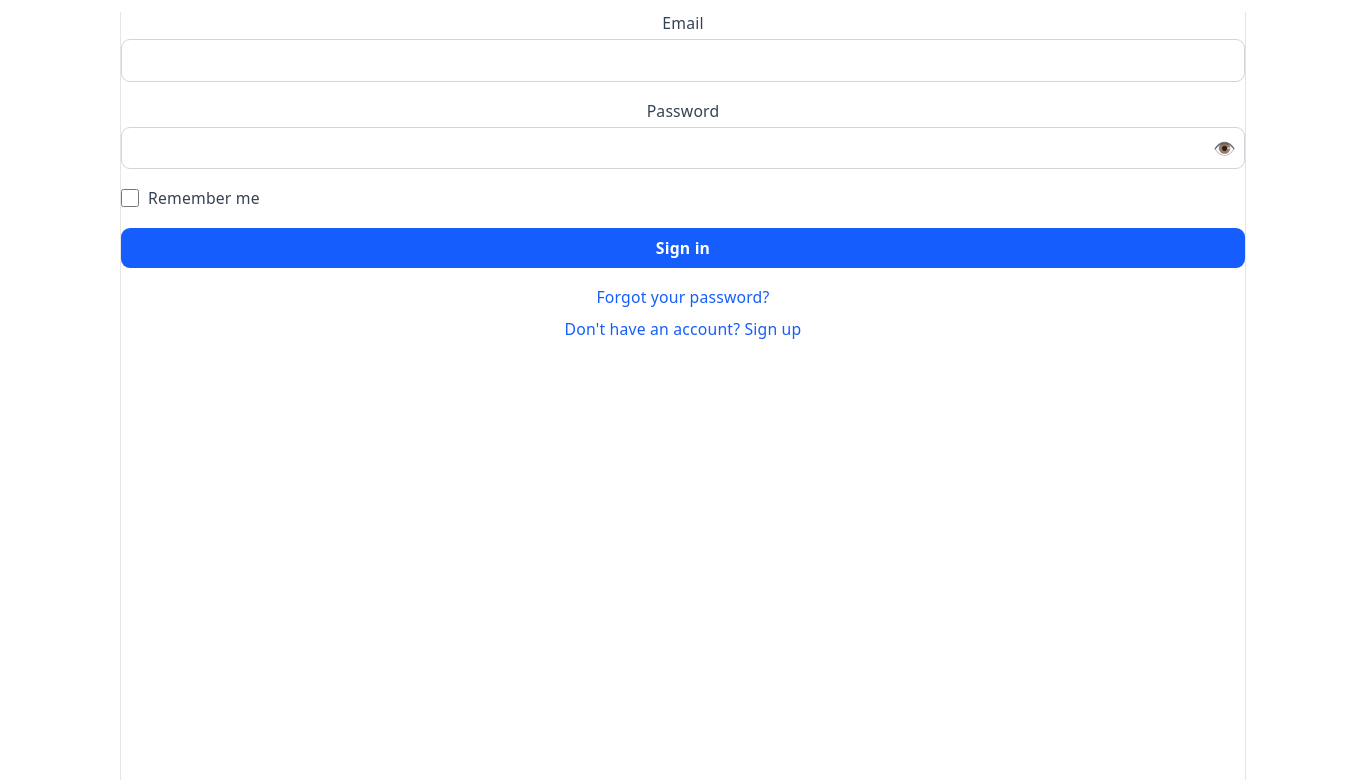
Test: LoginForm › shows email validation error for invalid email
The width and height of the screenshot is (1366, 780).
In the field labelled "Email": (683, 60) [121, 39, 1245, 82], type "invalid"
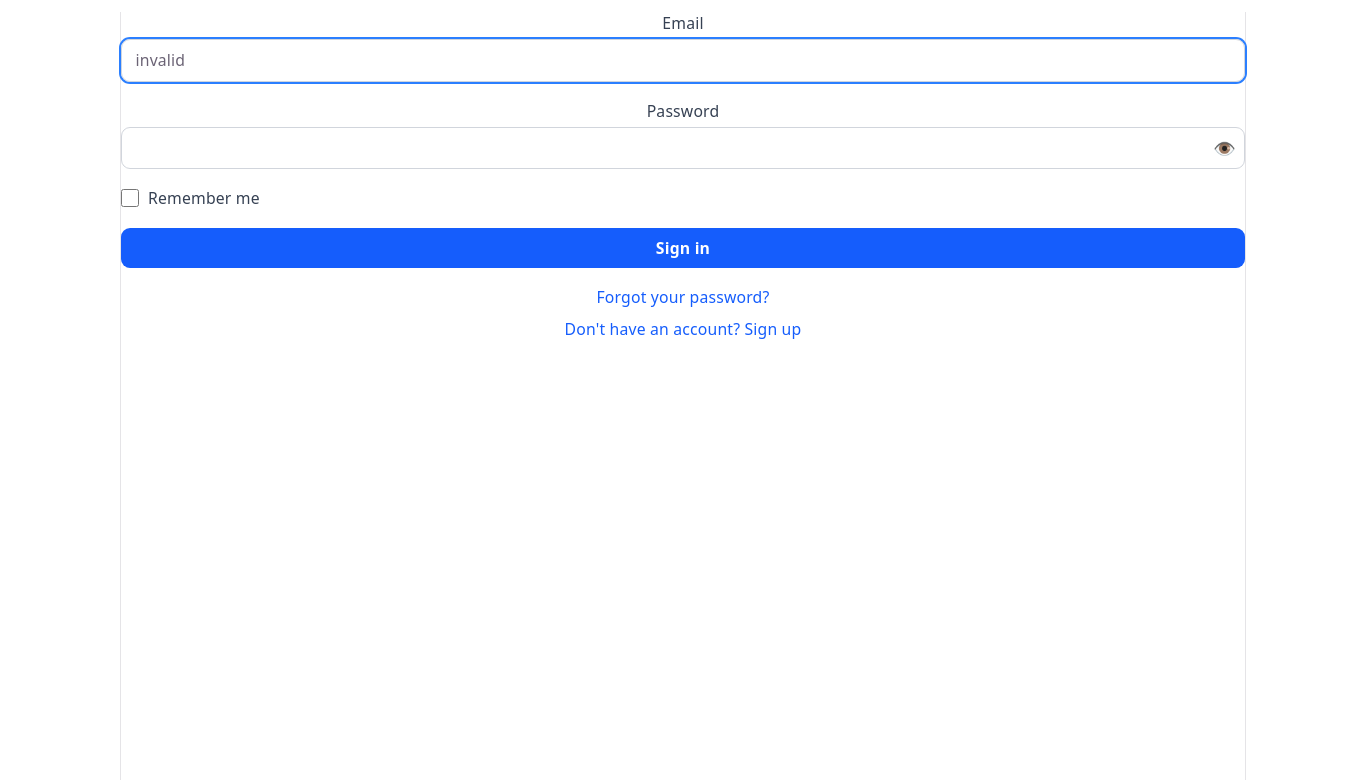
Click the button "Sign in": (683, 248) [121, 228, 1245, 268]
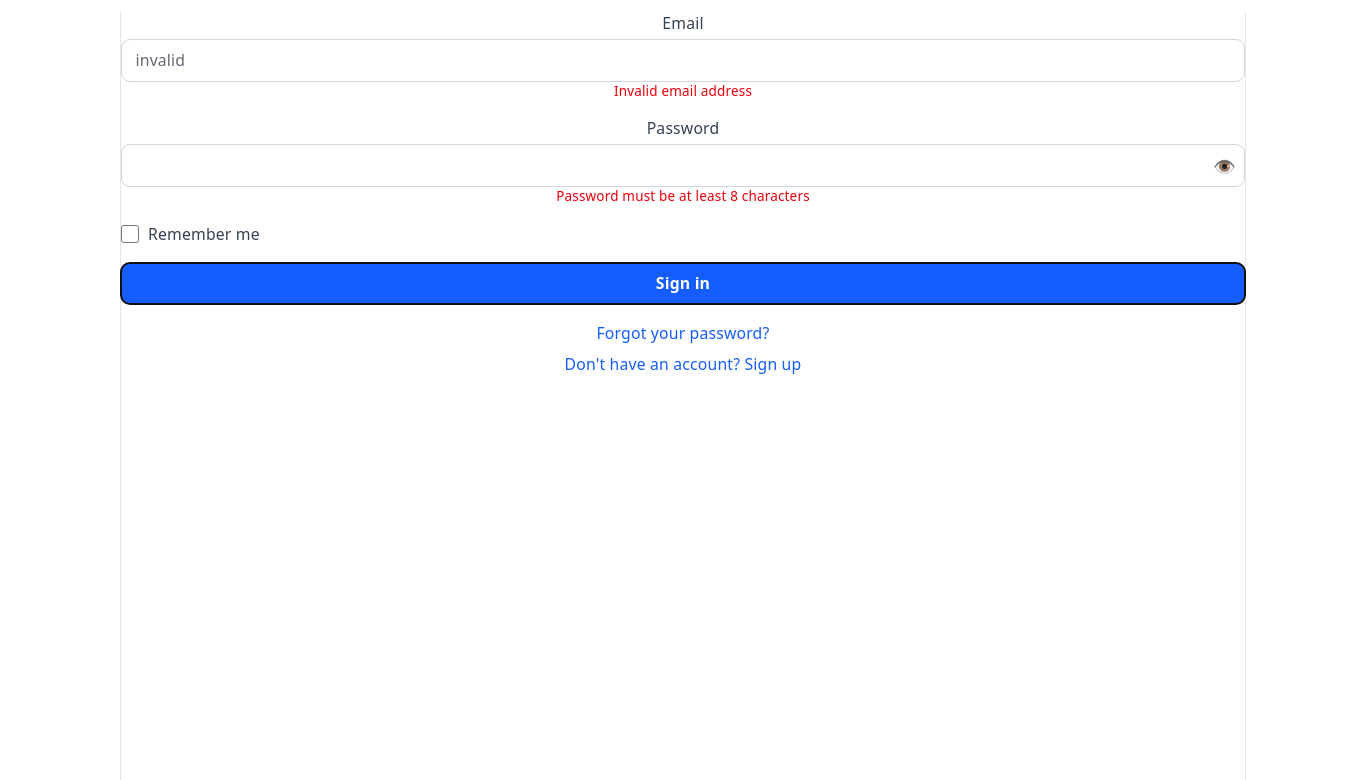
expect the text "Invalid email address" is shown: met, box [614, 82, 752, 100]
